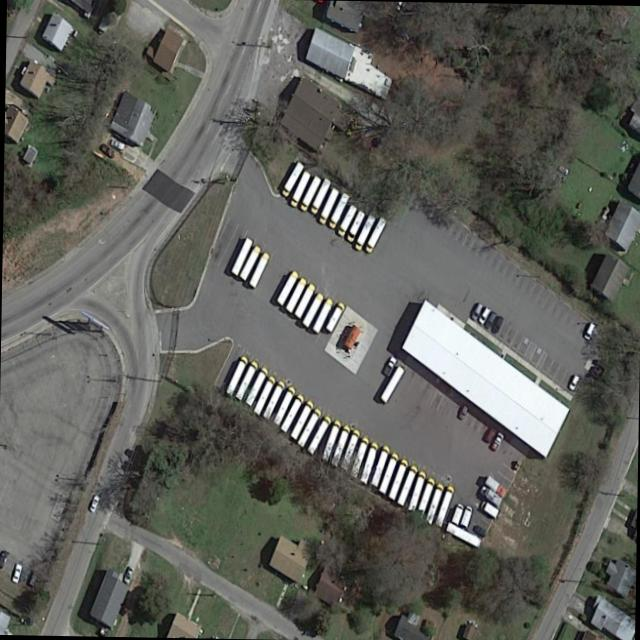large-vehicle: (233, 360, 258, 402), (271, 385, 295, 428), (289, 400, 314, 441), (224, 355, 248, 397), (279, 394, 304, 434), (296, 408, 321, 448), (306, 415, 331, 455), (244, 367, 268, 408), (252, 375, 275, 417), (396, 464, 418, 507), (433, 484, 454, 529), (445, 521, 480, 548), (262, 380, 285, 421), (329, 425, 350, 469), (288, 169, 311, 209), (379, 365, 403, 403), (377, 452, 398, 495), (339, 428, 360, 471), (358, 441, 378, 485), (369, 444, 389, 488), (387, 457, 407, 501), (320, 420, 340, 464), (310, 297, 333, 335), (363, 217, 386, 255), (414, 477, 434, 520), (423, 483, 443, 526), (300, 292, 323, 329), (238, 245, 261, 282), (308, 178, 331, 215), (298, 175, 321, 212), (230, 237, 251, 277), (353, 214, 375, 252), (327, 192, 349, 230), (349, 436, 368, 480), (275, 270, 298, 306), (280, 161, 303, 197), (317, 187, 338, 225), (293, 284, 315, 320), (284, 278, 306, 314), (248, 252, 269, 289), (407, 471, 424, 513), (335, 203, 356, 237), (324, 301, 345, 334), (345, 209, 364, 243)
small-vehicle: (483, 474, 507, 499), (478, 484, 502, 508), (478, 498, 499, 519), (488, 430, 504, 453), (96, 142, 114, 160), (489, 315, 504, 336), (482, 310, 497, 331), (382, 356, 396, 378), (86, 492, 100, 514), (476, 304, 490, 326), (469, 301, 483, 323), (566, 372, 580, 393), (9, 563, 22, 585), (581, 321, 595, 341), (484, 424, 497, 445), (120, 565, 133, 586), (471, 524, 487, 540), (109, 138, 124, 152), (27, 570, 39, 587), (456, 404, 468, 421)
